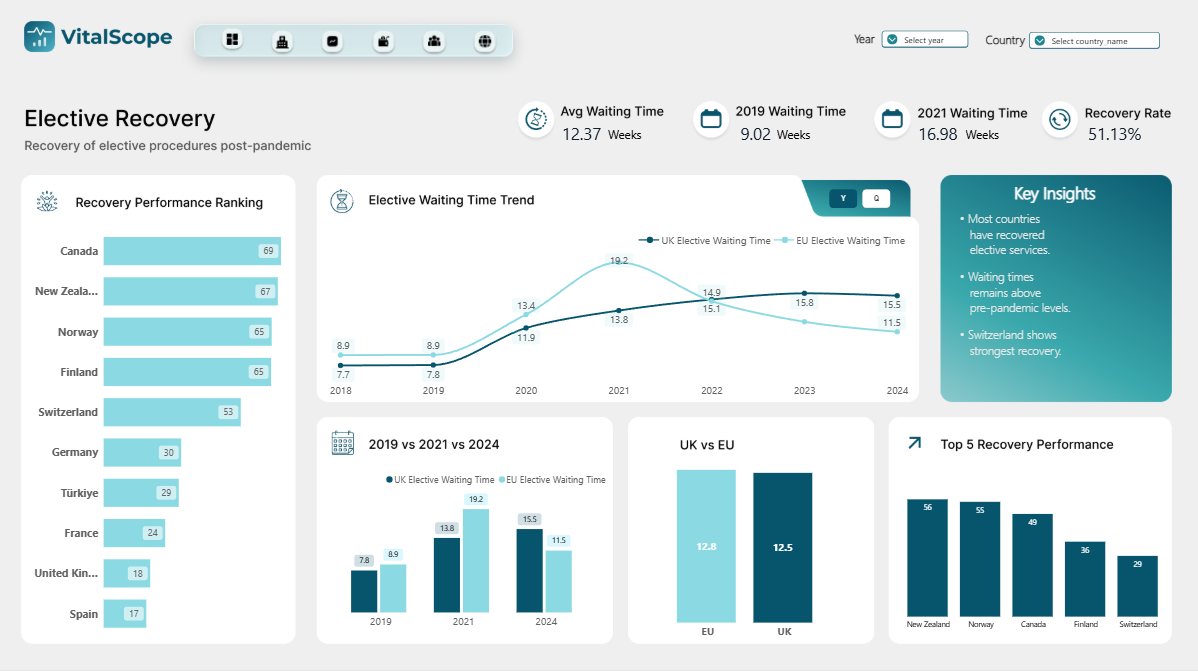

Layout of this report page (visuals, bound fields, positions):
{"tool":"powerbi","page":{"name":"Elective Recovery","canvas":[1920,1080],"ordinal":2},"visuals":[{"type":"actionButton","box":[358.8,48.9,33.8,33.1],"z":0},{"type":"actionButton","box":[438.9,51,34,34],"z":1000},{"type":"actionButton","box":[518.9,51,34,34],"z":2000},{"type":"actionButton","box":[600.6,51,34,34],"z":3000},{"type":"actionButton","box":[680.5,51,35.7,34],"z":4000},{"type":"actionButton","box":[762.2,51,34,34],"z":5000},{"type":"listSlicer","fields":{"Values":["dim_country.country_name"]},"box":[1634.7,40.8,240.8,71],"z":6000},{"type":"textbox","box":[1580,53.3,70,25],"z":7000},{"type":"textbox","box":[1370.2,52.6,57.9,38.6],"z":8000},{"type":"listSlicer","fields":{"Values":["dim_date.year"]},"box":[1398.2,38.6,170.2,70.2],"z":9000},{"type":"textbox","box":[1523.2,321.4,280.4,385.7],"z":10000},{"type":"textbox","box":[1626.8,291.1,189.3,114.3],"z":11000},{"type":"advancedSlicerVisual","fields":{"Values":["trends.trends"]},"box":[1330,306,98,30],"z":12000},{"type":"cardVisual","fields":{"Data":["_Measures.Avg Waiting Time"]},"box":[886,196,148,40],"z":13000},{"type":"cardVisual","fields":{"Data":["_Measures.2019 Waiting Time"]},"box":[1172,196,148,40],"z":14000},{"type":"cardVisual","fields":{"Data":["_Measures.2021 Waiting Time"]},"box":[1456,196,150,40],"z":15000},{"type":"cardVisual","fields":{"Data":["_Measures.Recovery Rate"]},"box":[1728,196,148,40],"z":16000},{"type":"lineChart","fields":{"Category":["dim_date.year"],"Y":["_Measures.UK Elective Waiting Time","_Measures.EU Elective Waiting Time"]},"box":[513.8,356.2,958.8,303.8],"z":17000},{"type":"clusteredBarChart","fields":{"Category":["dim_country.country_name"],"Y":["_Measures.Recovery Performance Score"]},"box":[27.8,355.6,440.7,668.5],"z":18000},{"type":"clusteredColumnChart","fields":{"Category":["dim_date.year"],"Y":["_Measures.UK Elective Waiting Time","_Measures.EU Elective Waiting Time"]},"box":[496,740,498,290],"z":19000},{"type":"clusteredColumnChart","fields":{"Category":["Comparison.Region"],"Y":["_Measures.UK vs EU Waiting Time"]},"box":[960,708,474,338],"z":20000},{"type":"clusteredColumnChart","fields":{"Category":["dim_country.country_name"],"Y":["_Measures.Recovery Performance Score"]},"box":[1433.3,765.4,441.3,264.4],"z":21000},{"type":"textbox","box":[976,206,68,38],"z":22000},{"type":"textbox","box":[1246,206,68,38],"z":23000},{"type":"textbox","box":[1548,206,68,38],"z":24000}]}

Visuals, with their boxes in screenshot pixels (x1, y1, x2, y2), scaled from the page's 1920x1080 canvas onto the 1198x671 screenshot:
actionButton: crop(224, 30, 245, 51)
actionButton: crop(274, 32, 295, 53)
actionButton: crop(324, 32, 345, 53)
actionButton: crop(375, 32, 396, 53)
actionButton: crop(425, 32, 447, 53)
actionButton: crop(476, 32, 497, 53)
listSlicer - dim_country.country_name: crop(1020, 25, 1170, 69)
textbox: crop(986, 33, 1030, 49)
textbox: crop(855, 33, 891, 57)
listSlicer - dim_date.year: crop(872, 24, 979, 68)
textbox: crop(950, 200, 1125, 439)
textbox: crop(1015, 181, 1133, 252)
advancedSlicerVisual - trends.trends: crop(830, 190, 891, 209)
cardVisual - _Measures.Avg Waiting Time: crop(553, 122, 645, 147)
cardVisual - _Measures.2019 Waiting Time: crop(731, 122, 824, 147)
cardVisual - _Measures.2021 Waiting Time: crop(908, 122, 1002, 147)
cardVisual - _Measures.Recovery Rate: crop(1078, 122, 1171, 147)
lineChart - dim_date.year x _Measures.UK Elective Waiting Time: crop(321, 221, 919, 410)
clusteredBarChart - dim_country.country_name x _Measures.Recovery Performance Score: crop(17, 221, 292, 636)
clusteredColumnChart - dim_date.year x _Measures.UK Elective Waiting Time: crop(309, 460, 620, 640)
clusteredColumnChart - Comparison.Region x _Measures.UK vs EU Waiting Time: crop(599, 440, 895, 650)
clusteredColumnChart - dim_country.country_name x _Measures.Recovery Performance Score: crop(894, 476, 1170, 640)
textbox: crop(609, 128, 651, 152)
textbox: crop(777, 128, 820, 152)
textbox: crop(966, 128, 1008, 152)
